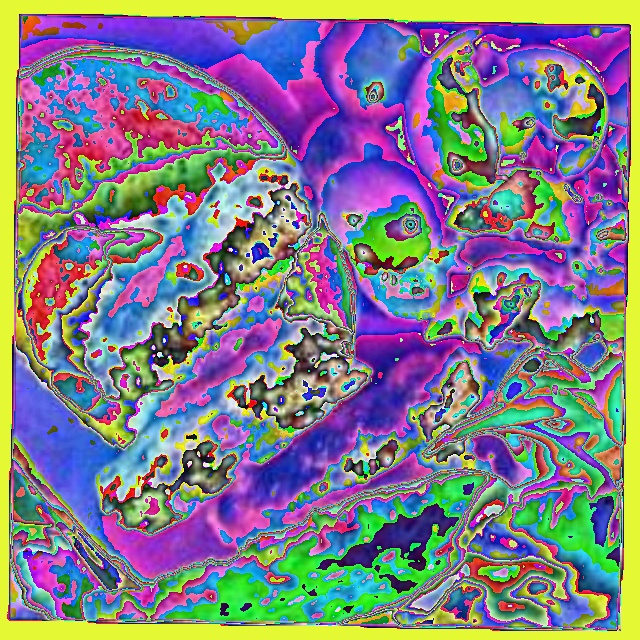background: (15, 20, 629, 629)
